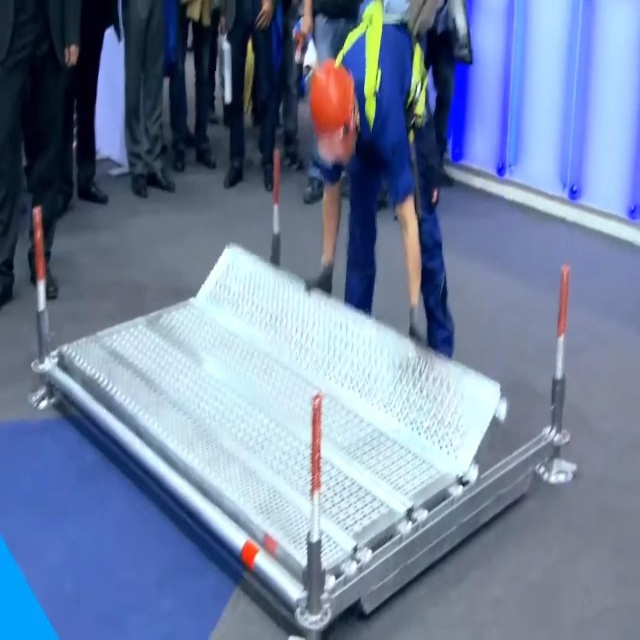Arnes_seguridad: (328, 0, 439, 145)
